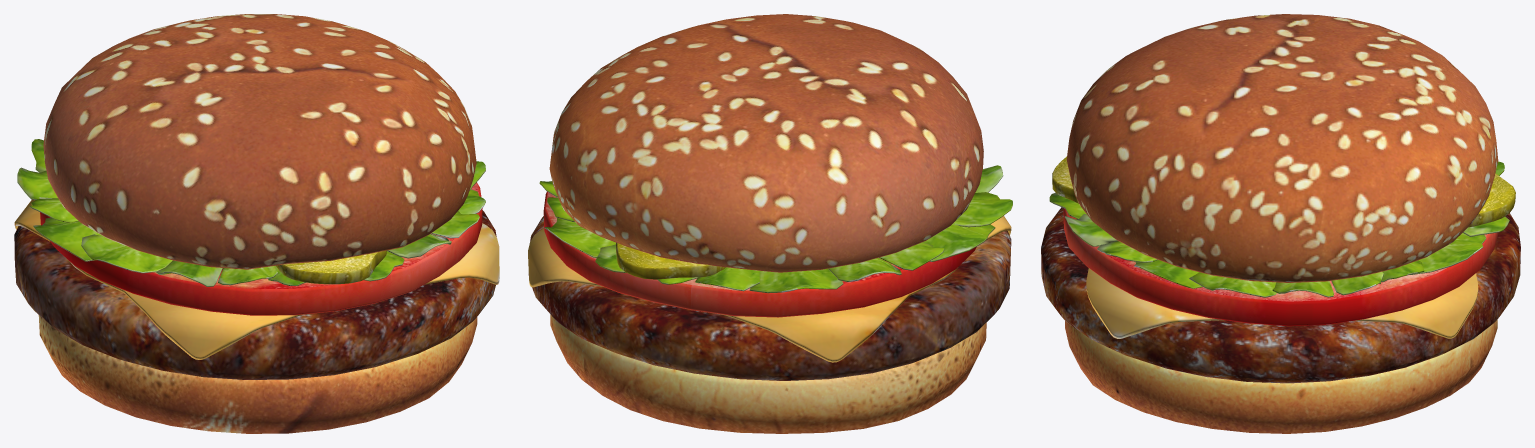
Rendered from burger.fbx.
3 views of the same model, side by side, from view 1: azimuth 30°, elevation 25°; view 2: azimuth 150°, elevation 25°; view 3: azimuth 270°, elevation 25° (orthographic).
Parts seen in each view (by area): view 1: Burger_01; view 2: Burger_01; view 3: Burger_01.
Part boxes in pixels (bbox=[...]): Burger_01: bbox=[14, 14, 499, 433]; Burger_01: bbox=[528, 14, 1012, 433]; Burger_01: bbox=[1041, 14, 1520, 433].
Size of the model in its own units: 23.23 by 15.1 by 22.83.
Materials: 1 (1 with a texture image).
